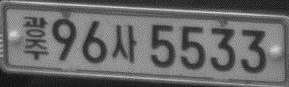3: (210, 27, 236, 71), (240, 29, 266, 73)
5: (180, 25, 206, 69), (150, 24, 175, 67)
6: (81, 20, 107, 63)
9: (52, 18, 77, 60)
광주_V: (22, 16, 49, 60)
사: (111, 24, 137, 63)
